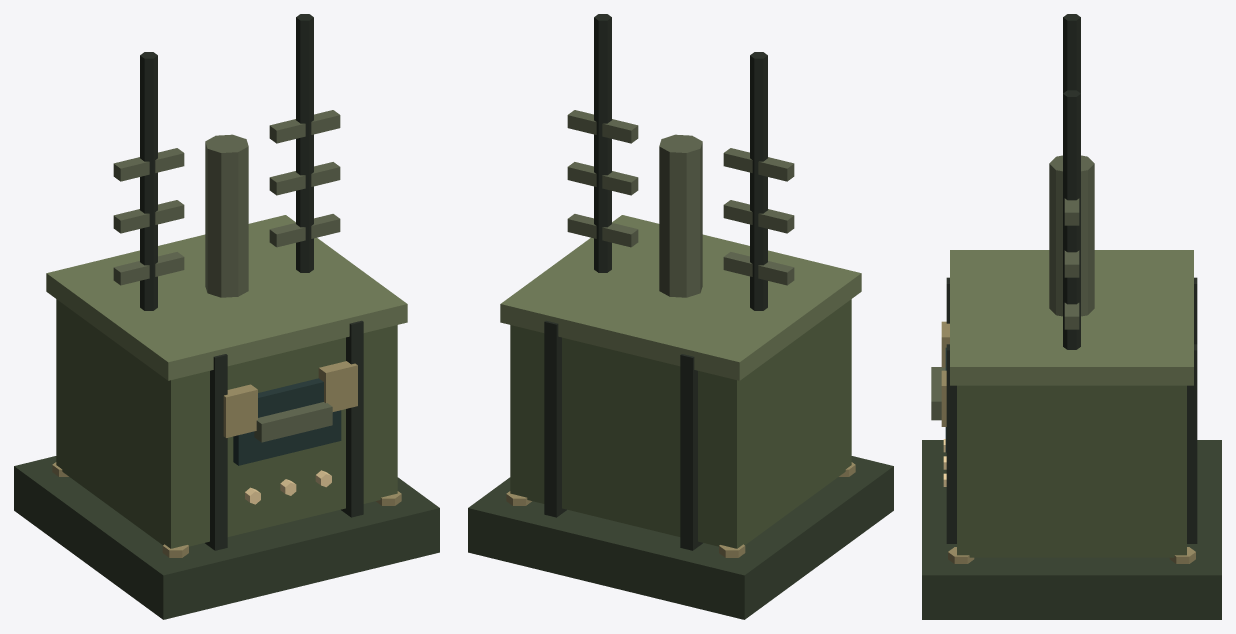
File: mineHacker.obj
3 renders of one model, left to right at view 1: azimuth 30°, elevation 25°; view 2: azimuth 150°, elevation 25°; view 3: azimuth 270°, elevation 25°, orthographic.
Parts seen in each view (by area): view 1: BASE.018; view 2: BASE.018; view 3: BASE.018.
Part boxes in pixels (x1,y1,x2,y2): BASE.018: (14, 14, 439, 619); BASE.018: (468, 14, 893, 619); BASE.018: (922, 14, 1221, 619).
Bounding box in the file's own units: 0.78 × 1.34 × 0.73.
1 material, 1 textured.
